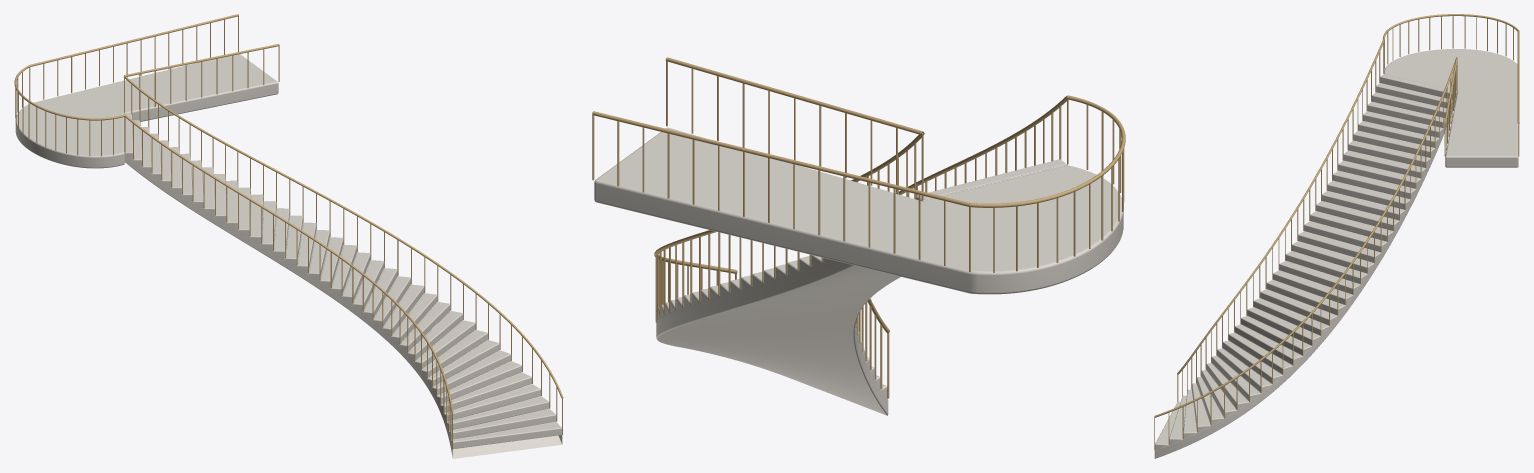
Rendered from stair.glb.
3 renders of one model, left to right at view 1: azimuth 30°, elevation 25°; view 2: azimuth 150°, elevation 25°; view 3: azimuth 270°, elevation 25°, orthographic. The views are drawn at different scales.
Parts seen in each view (by area): view 1: Single rounded balcony, Continuous curved stair soffit, Sweeping brass handrail.001, Tread 00, Sweeping brass handrail, Tread 01, Tread 02, Tread 03, Tread 04, Tread 05, Tread 06, Tread 07 (+19 smaller); view 2: Single rounded balcony, Continuous curved stair soffit, Landing back handrail, Continuous landing return, Rounded balcony handrail, Tread 37, Sweeping brass handrail, Sweeping brass handrail.001; view 3: Single rounded balcony, Continuous curved stair soffit, Sweeping brass handrail.001, Sweeping brass handrail, Tread 22, Tread 21, Tread 19, Tread 20, Tread 18, Tread 23, Tread 24, Tread 17 (+31 smaller).
Boxes of the visible parts, box(x1,y1,x2,y2) form: Single rounded balcony: box(15, 54, 278, 168); Continuous curved stair soffit: box(124, 114, 562, 458); Sweeping brass handrail.001: box(123, 76, 563, 398); Tread 00: box(451, 422, 561, 448); Sweeping brass handrail: box(125, 115, 453, 412); Tread 01: box(449, 409, 556, 439); Tread 02: box(447, 396, 549, 430); Tread 03: box(444, 384, 540, 421); Tread 04: box(441, 372, 531, 412); Tread 05: box(437, 361, 521, 403); Tread 06: box(433, 350, 511, 395); Tread 07: box(428, 340, 499, 386); Single rounded balcony: box(594, 127, 1123, 294); Continuous curved stair soffit: box(656, 164, 1067, 415); Landing back handrail: box(592, 111, 969, 206); Continuous landing return: box(665, 57, 923, 134); Rounded balcony handrail: box(969, 95, 1125, 207); Tread 37: box(916, 159, 1066, 201); Sweeping brass handrail: box(867, 95, 1067, 333); Sweeping brass handrail.001: box(654, 131, 924, 273); Single rounded balcony: box(1384, 49, 1518, 167); Continuous curved stair soffit: box(1154, 74, 1456, 458); Sweeping brass handrail.001: box(1154, 59, 1455, 417); Sweeping brass handrail: box(1177, 40, 1384, 374); Tread 22: box(1304, 221, 1386, 251); Tread 21: box(1298, 231, 1380, 262); Tread 19: box(1285, 251, 1367, 283); Tread 20: box(1292, 241, 1373, 273); Tread 18: box(1279, 261, 1359, 294); Tread 23: box(1310, 211, 1392, 241); Tread 24: box(1316, 201, 1398, 230); Tread 17: box(1273, 270, 1352, 304).
Bounding box in the file's own units: 11.1 × 8.9 × 10.42.
